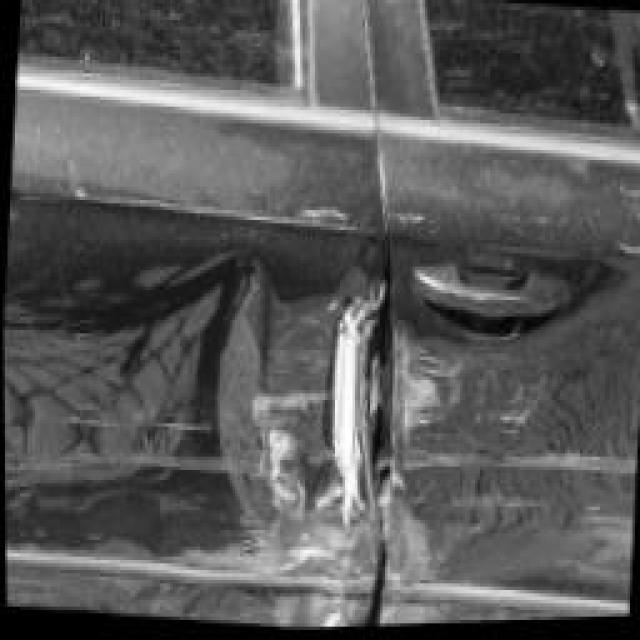Door: (70, 110, 390, 636), (375, 213, 576, 629)
